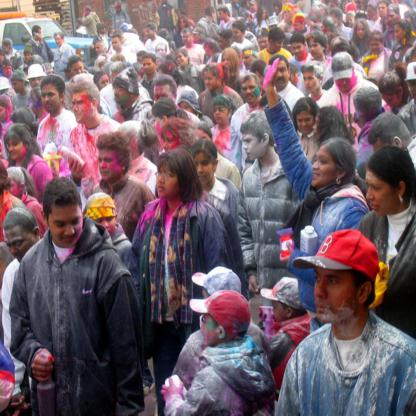face: (314, 260, 362, 325), (48, 202, 84, 248), (367, 168, 396, 218), (312, 148, 339, 187), (5, 231, 34, 265), (373, 139, 401, 171), (193, 153, 213, 187), (157, 166, 177, 199), (99, 149, 119, 182), (74, 93, 94, 125), (243, 131, 264, 161), (202, 309, 218, 346), (89, 217, 116, 238), (193, 131, 212, 159), (43, 85, 61, 113), (164, 132, 184, 156), (203, 287, 218, 317), (273, 62, 289, 90), (155, 85, 175, 107), (336, 71, 356, 93), (314, 115, 328, 145), (304, 71, 322, 94), (298, 111, 315, 135), (383, 90, 404, 109), (7, 139, 25, 160), (4, 177, 20, 200), (242, 79, 258, 102), (214, 104, 231, 125), (309, 38, 325, 60), (273, 298, 286, 325), (180, 100, 197, 119), (155, 115, 169, 137), (205, 70, 220, 90), (115, 83, 128, 104), (243, 52, 257, 70), (370, 39, 383, 58), (293, 43, 306, 60), (390, 10, 402, 28), (31, 76, 45, 91), (224, 54, 236, 71), (396, 25, 408, 42), (258, 37, 271, 52), (98, 75, 110, 91), (181, 31, 193, 46), (73, 62, 84, 78), (144, 59, 155, 75), (219, 35, 230, 51), (274, 37, 284, 53), (12, 80, 23, 94), (113, 73, 124, 87), (233, 30, 244, 44), (358, 23, 367, 40), (385, 20, 396, 33), (177, 53, 187, 67), (3, 65, 13, 78), (158, 46, 167, 60), (406, 15, 415, 28), (2, 105, 8, 123), (204, 43, 213, 55), (369, 9, 378, 21), (321, 23, 329, 36), (194, 32, 202, 44), (295, 21, 302, 34), (145, 30, 155, 39), (319, 9, 328, 19), (47, 70, 55, 81), (113, 40, 121, 51), (138, 57, 146, 68), (347, 16, 355, 27), (379, 9, 390, 17), (275, 5, 283, 16), (270, 26, 280, 34), (221, 10, 229, 20), (251, 4, 259, 14), (56, 35, 63, 46), (165, 32, 171, 44), (96, 44, 103, 54), (26, 52, 33, 61), (180, 20, 189, 27), (344, 2, 351, 11), (332, 4, 339, 12), (4, 44, 10, 53), (336, 17, 342, 26), (286, 16, 293, 23), (211, 12, 217, 20), (361, 1, 367, 9), (38, 29, 43, 38), (116, 8, 123, 14), (246, 3, 251, 11), (263, 15, 268, 20), (249, 17, 253, 23), (85, 9, 88, 16), (101, 29, 106, 33), (164, 2, 169, 6), (78, 21, 81, 27)
